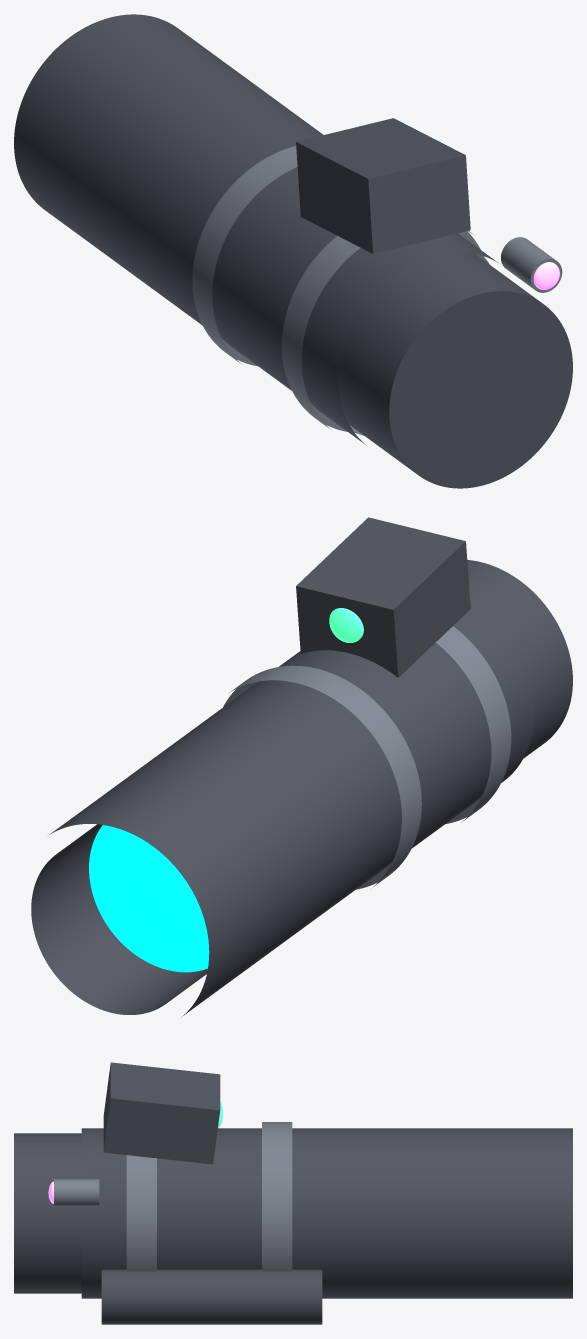
File: Laser_gun.glb
3 views of the same model, one above another, from view 1: azimuth 30°, elevation 25°; view 2: azimuth 150°, elevation 25°; view 3: azimuth 270°, elevation 25° (orthographic). The views are drawn at different scales.
Parts seen in each view (by area): view 1: Laser_Gun; view 2: Laser_Gun; view 3: Laser_Gun.
Boxes of the visible parts, box(x1,y1,x2,y2) form: Laser_Gun: box(14, 14, 572, 488); Laser_Gun: box(31, 517, 572, 1017); Laser_Gun: box(14, 1062, 572, 1324).
Size of the model in its own units: 0.835 by 0.9505 by 2.23.
